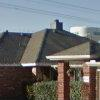Chimney: (45, 16, 66, 36)
